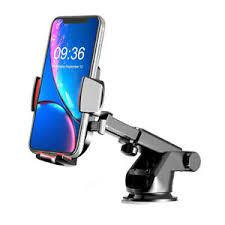Smartphone: (26, 11, 112, 165)
